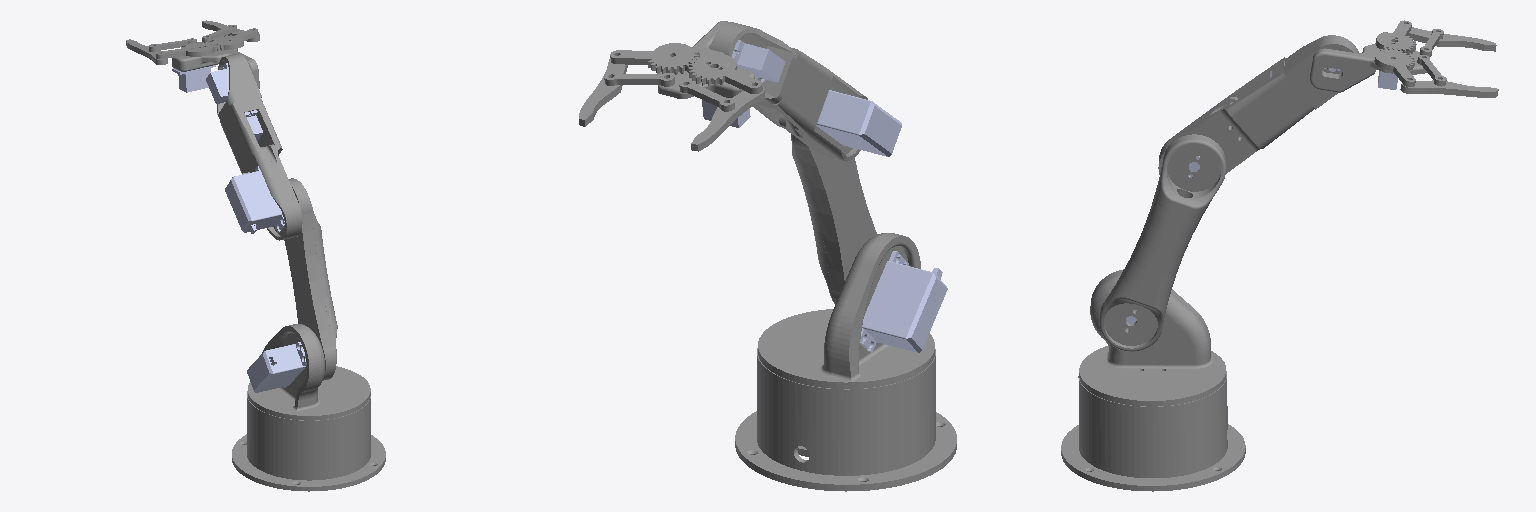
The robot description file, URDF, robot "[local-path]\Downloads\brazo":
<?xml version="1.0" ?>
<!-- Generated using onshape-to-robot -->
<!-- Onshape https://cad.onshape.com/documents/a71bbab818f79d4d3df7e3b9/w/574f50a3cf0572fa3286194a/e/28a7b337e19c9283531a6724 -->
<robot name="C:\Users\jose5\Downloads\brazo">
  <!-- Link body1 -->
  <link name="body1">
    <inertial>
      <origin xyz="0.108987 -0.0395409 -0.0419016" rpy="0 0 0"/>
      <mass value="0.118244"/>
      <inertia ixx="0.000168538" ixy="-2e-11" ixz="8e-12" iyy="0.000161015" iyz="4.0463e-06" izz="0.00025711"/>
    </inertial>
    <!-- Part body1 -->
    <visual>
      <origin xyz="0.108987 -0.0404876 -0.0640146" rpy="0.00679811 -0 0"/>
      <geometry>
        <mesh filename="package://assets\body1.stl"/>
      </geometry>
      <material name="body1_material">
        <color rgba="0.627451 0.627451 0.627451 1"/>
      </material>
    </visual>
    <collision>
      <origin xyz="0.108987 -0.0404876 -0.0640146" rpy="0.00679811 -0 0"/>
      <geometry>
        <mesh filename="package://assets\body1.stl"/>
      </geometry>
    </collision>
  </link>
  <!-- Link body1_2 -->
  <link name="body1_2">
    <inertial>
      <origin xyz="0.0154758 -0.00346856 -0.0244656" rpy="0 0 0"/>
      <mass value="0.14706"/>
      <inertia ixx="0.000102092" ixy="4.00363e-06" ixz="1.77019e-05" iyy="9.74089e-05" iyz="-1.3991e-05" izz="0.000104391"/>
    </inertial>
    <!-- Part body1_2 -->
    <visual>
      <origin xyz="0 0 0" rpy="-1.5708 -0 -0"/>
      <geometry>
        <mesh filename="package://assets\body1__2.stl"/>
      </geometry>
      <material name="body1_2_material">
        <color rgba="0.627451 0.627451 0.627451 1"/>
      </material>
    </visual>
    <collision>
      <origin xyz="0 0 0" rpy="-1.5708 -0 -0"/>
      <geometry>
        <mesh filename="package://assets\body1__2.stl"/>
      </geometry>
    </collision>
    <!-- Part servo_mg996r__none -->
    <visual>
      <origin xyz="0.0492 -0.00654366 -0.0326348" rpy="-0 -0.785398 1.5708"/>
      <geometry>
        <mesh filename="package://assets\servo_mg996r__none.stl"/>
      </geometry>
      <material name="servo_mg996r__none_material">
        <color rgba="0.792157 0.819608 0.933333 1"/>
      </material>
    </visual>
    <collision>
      <origin xyz="0.0492 -0.00654366 -0.0326348" rpy="-0 -0.785398 1.5708"/>
      <geometry>
        <mesh filename="package://assets\servo_mg996r__none.stl"/>
      </geometry>
    </collision>
  </link>
  <!-- Link body1_3 -->
  <link name="body1_3">
    <inertial>
      <origin xyz="-9.3609e-08 -0.06 -0.00777214" rpy="0 0 0"/>
      <mass value="0.080077"/>
      <inertia ixx="0.000129695" ixy="4.89e-10" ixz="-1.24e-10" iyy="1.15345e-05" iyz="-3.7e-11" izz="0.00013578"/>
    </inertial>
    <!-- Part body1_3 -->
    <visual>
      <origin xyz="0 -0.12 -0.021" rpy="0 0 0"/>
      <geometry>
        <mesh filename="package://assets\body1__3.stl"/>
      </geometry>
      <material name="body1_3_material">
        <color rgba="0.627451 0.627451 0.627451 1"/>
      </material>
    </visual>
    <collision>
      <origin xyz="0 -0.12 -0.021" rpy="0 0 0"/>
      <geometry>
        <mesh filename="package://assets\body1__3.stl"/>
      </geometry>
    </collision>
  </link>
  <!-- Link body1_4 -->
  <link name="body1_4">
    <inertial>
      <origin xyz="0.031548 -2.91008e-05 -0.0125932" rpy="0 0 0"/>
      <mass value="0.127271"/>
      <inertia ixx="2.87792e-05" ixy="2.00584e-07" ixz="-1.79937e-05" iyy="0.000143616" iyz="2.082e-08" izz="0.000134809"/>
    </inertial>
    <!-- Part servo_micro__boss_extrude5 -->
    <visual>
      <origin xyz="0.0617 0 -0.0065" rpy="3.14159 -0 1.5708"/>
      <geometry>
        <mesh filename="package://assets\servo_micro__boss_extrude5.stl"/>
      </geometry>
      <material name="servo_micro__boss_extrude5_material">
        <color rgba="0.792157 0.819608 0.933333 1"/>
      </material>
    </visual>
    <collision>
      <origin xyz="0.0617 0 -0.0065" rpy="3.14159 -0 1.5708"/>
      <geometry>
        <mesh filename="package://assets\servo_micro__boss_extrude5.stl"/>
      </geometry>
    </collision>
    <!-- Part body1_4 -->
    <visual>
      <origin xyz="0.03475 0 0" rpy="-3.14159 0 0"/>
      <geometry>
        <mesh filename="package://assets\body1__4.stl"/>
      </geometry>
      <material name="body1_4_material">
        <color rgba="0.627451 0.627451 0.627451 1"/>
      </material>
    </visual>
    <collision>
      <origin xyz="0.03475 0 0" rpy="-3.14159 0 0"/>
      <geometry>
        <mesh filename="package://assets\body1__4.stl"/>
      </geometry>
    </collision>
    <!-- Part servo_mg996r__none_2 -->
    <visual>
      <origin xyz="0.01075 0 -0.0418" rpy="1.5708 0 0"/>
      <geometry>
        <mesh filename="package://assets\servo_mg996r__none.stl"/>
      </geometry>
      <material name="servo_mg996r__none_2_material">
        <color rgba="0.792157 0.819608 0.933333 1"/>
      </material>
    </visual>
    <collision>
      <origin xyz="0.01075 0 -0.0418" rpy="1.5708 0 0"/>
      <geometry>
        <mesh filename="package://assets\servo_mg996r__none.stl"/>
      </geometry>
    </collision>
  </link>
  <!-- Link body1_5 -->
  <link name="body1_5">
    <inertial>
      <origin xyz="0.00502784 -0.00239229 -0.020039" rpy="0 0 0"/>
      <mass value="0.0339878"/>
      <inertia ixx="6.89636e-06" ixy="-2.262e-09" ixz="-1.6555e-08" iyy="7.32229e-06" iyz="-4.5483e-07" izz="4.55512e-06"/>
    </inertial>
    <!-- Part body1_5 -->
    <visual>
      <origin xyz="0.005 0 -0" rpy="-1.5708 -0 -0"/>
      <geometry>
        <mesh filename="package://assets\body1__5.stl"/>
      </geometry>
      <material name="body1_5_material">
        <color rgba="0.627451 0.627451 0.627451 1"/>
      </material>
    </visual>
    <collision>
      <origin xyz="0.005 0 -0" rpy="-1.5708 -0 -0"/>
      <geometry>
        <mesh filename="package://assets\body1__5.stl"/>
      </geometry>
    </collision>
    <!-- Part servo_micro__boss_extrude5_2 -->
    <visual>
      <origin xyz="0.005 0.01455 -0.0230515" rpy="3.14159 -1.5708 0"/>
      <geometry>
        <mesh filename="package://assets\servo_micro__boss_extrude5.stl"/>
      </geometry>
      <material name="servo_micro__boss_extrude5_2_material">
        <color rgba="0.792157 0.819608 0.933333 1"/>
      </material>
    </visual>
    <collision>
      <origin xyz="0.005 0.01455 -0.0230515" rpy="3.14159 -1.5708 0"/>
      <geometry>
        <mesh filename="package://assets\servo_micro__boss_extrude5.stl"/>
      </geometry>
    </collision>
  </link>
  <!-- Link body1_6 -->
  <link name="body1_6">
    <inertial>
      <origin xyz="0.00304697 0.0302359 0.0115187" rpy="0 0 0"/>
      <mass value="0.0334504"/>
      <inertia ixx="1.61851e-05" ixy="-7.74373e-07" ixz="8.12843e-07" iyy="8.74357e-06" iyz="-4.18817e-06" izz="1.19198e-05"/>
    </inertial>
    <!-- Part body1_6 -->
    <visual>
      <origin xyz="0.009 0.0405 0.016" rpy="-1.5708 -1.5708 0"/>
      <geometry>
        <mesh filename="package://assets\body1__6.stl"/>
      </geometry>
      <material name="body1_6_material">
        <color rgba="0.627451 0.627451 0.627451 1"/>
      </material>
    </visual>
    <collision>
      <origin xyz="0.009 0.0405 0.016" rpy="-1.5708 -1.5708 0"/>
      <geometry>
        <mesh filename="package://assets\body1__6.stl"/>
      </geometry>
    </collision>
    <!-- Part servo_micro__boss_extrude5_3 -->
    <visual>
      <origin xyz="-0.01455 0.0381786 0.0229485" rpy="-1.5708 -1.5708 0"/>
      <geometry>
        <mesh filename="package://assets\servo_micro__boss_extrude5.stl"/>
      </geometry>
      <material name="servo_micro__boss_extrude5_3_material">
        <color rgba="0.792157 0.819608 0.933333 1"/>
      </material>
    </visual>
    <collision>
      <origin xyz="-0.01455 0.0381786 0.0229485" rpy="-1.5708 -1.5708 0"/>
      <geometry>
        <mesh filename="package://assets\servo_micro__boss_extrude5.stl"/>
      </geometry>
    </collision>
  </link>
  <!-- Link body1_7 -->
  <link name="body1_7">
    <inertial>
      <origin xyz="0.0191519 0.0142009 -0.000170711" rpy="0 0 0"/>
      <mass value="0.007419"/>
      <inertia ixx="2.16654e-06" ixy="-1.29231e-06" ixz="-2.03103e-07" iyy="2.02591e-06" iyz="-1.53706e-07" izz="4.1047e-06"/>
    </inertial>
    <!-- Part body1_7 -->
    <visual>
      <origin xyz="0.03075 0 0.0045" rpy="-1.5708 -0 1.5708"/>
      <geometry>
        <mesh filename="package://assets\body1__7.stl"/>
      </geometry>
      <material name="body1_7_material">
        <color rgba="0.627451 0.627451 0.627451 1"/>
      </material>
    </visual>
    <collision>
      <origin xyz="0.03075 0 0.0045" rpy="-1.5708 -0 1.5708"/>
      <geometry>
        <mesh filename="package://assets\body1__7.stl"/>
      </geometry>
    </collision>
    <!-- Part body1_8 -->
    <visual>
      <origin xyz="-0 0 -0.002" rpy="-0 0 0"/>
      <geometry>
        <mesh filename="package://assets\body1__8.stl"/>
      </geometry>
      <material name="body1_8_material">
        <color rgba="0.627451 0.627451 0.627451 1"/>
      </material>
    </visual>
    <collision>
      <origin xyz="-0 0 -0.002" rpy="-0 0 0"/>
      <geometry>
        <mesh filename="package://assets\body1__8.stl"/>
      </geometry>
    </collision>
    <!-- Part body1_9 -->
    <visual>
      <origin xyz="0.03075 0.022 0" rpy="-1.5708 0 3.14159"/>
      <geometry>
        <mesh filename="package://assets\body1__9.stl"/>
      </geometry>
      <material name="body1_9_material">
        <color rgba="0.627451 0.627451 0.627451 1"/>
      </material>
    </visual>
    <collision>
      <origin xyz="0.03075 0.022 0" rpy="-1.5708 0 3.14159"/>
      <geometry>
        <mesh filename="package://assets\body1__9.stl"/>
      </geometry>
    </collision>
  </link>
  <!-- Joint from body1_6 to body1_7 -->
  <joint name="pinza" type="revolute">
    <origin xyz="0.014 0.038 0.0179" rpy="-1.5708 -1.34986 1.5708"/>
    <parent link="body1_6"/>
    <child link="body1_7"/>
    <axis xyz="0 0 1"/>
    <limit effort="10" velocity="10" lower="-3.141592653589793" upper="3.141592653589793"/>
  </joint>
  <!-- Link body1_8 -->
  <link name="body1_8">
    <inertial>
      <origin xyz="0.0189086 -0.0140205 -0.000193957" rpy="0 0 0"/>
      <mass value="0.00751447"/>
      <inertia ixx="2.18611e-06" ixy="1.31795e-06" ixz="-2.06404e-07" iyy="2.06211e-06" iyz="1.56151e-07" izz="4.15959e-06"/>
    </inertial>
    <!-- Part body1_10 -->
    <visual>
      <origin xyz="0.03075 -0.022 0" rpy="-1.5708 -0 -3.14159"/>
      <geometry>
        <mesh filename="package://assets\body1__9.stl"/>
      </geometry>
      <material name="body1_10_material">
        <color rgba="0.627451 0.627451 0.627451 1"/>
      </material>
    </visual>
    <collision>
      <origin xyz="0.03075 -0.022 0" rpy="-1.5708 -0 -3.14159"/>
      <geometry>
        <mesh filename="package://assets\body1__9.stl"/>
      </geometry>
    </collision>
    <!-- Part body1_11 -->
    <visual>
      <origin xyz="0 0 -0.002" rpy="-3.14159 -0 0"/>
      <geometry>
        <mesh filename="package://assets\body1__10.stl"/>
      </geometry>
      <material name="body1_11_material">
        <color rgba="0.627451 0.627451 0.627451 1"/>
      </material>
    </visual>
    <collision>
      <origin xyz="0 0 -0.002" rpy="-3.14159 -0 0"/>
      <geometry>
        <mesh filename="package://assets\body1__10.stl"/>
      </geometry>
    </collision>
    <!-- Part body1_12 -->
    <visual>
      <origin xyz="0.03075 -0 0" rpy="1.5708 0 -1.5708"/>
      <geometry>
        <mesh filename="package://assets\body1__7.stl"/>
      </geometry>
      <material name="body1_12_material">
        <color rgba="0.627451 0.627451 0.627451 1"/>
      </material>
    </visual>
    <collision>
      <origin xyz="0.03075 -0 0" rpy="1.5708 0 -1.5708"/>
      <geometry>
        <mesh filename="package://assets\body1__7.stl"/>
      </geometry>
    </collision>
  </link>
  <!-- Joint from body1_6 to body1_8 -->
  <joint name="pinza_2" type="revolute">
    <origin xyz="0.014 0.038 -0.009" rpy="-1.5708 1.17362 1.5708"/>
    <parent link="body1_6"/>
    <child link="body1_8"/>
    <axis xyz="0 0 1"/>
    <limit effort="10" velocity="10" lower="-3.141592653589793" upper="3.141592653589793"/>
  </joint>
  <!-- Joint from body1_5 to body1_6 -->
  <joint name="muneca_roll" type="revolute">
    <origin xyz="0.005 -0.014 -0.028" rpy="-1.5708 0.842781 -0"/>
    <parent link="body1_5"/>
    <child link="body1_6"/>
    <axis xyz="0 0 1"/>
    <limit effort="10" velocity="10" lower="-3.141592653589793" upper="3.141592653589793"/>
  </joint>
  <!-- Joint from body1_4 to body1_5 -->
  <joint name="muneca_pitch" type="revolute">
    <origin xyz="0.08975 -0.0053 -0.0055" rpy="-1.5708 -0 1.5708"/>
    <parent link="body1_4"/>
    <child link="body1_5"/>
    <axis xyz="0 0 1"/>
    <limit effort="10" velocity="10" lower="-3.141592653589793" upper="3.141592653589793"/>
  </joint>
  <!-- Joint from body1_3 to body1_4 -->
  <joint name="codo" type="revolute">
    <origin xyz="0 -0.12 0" rpy="-3.14159 -0 -1.04123"/>
    <parent link="body1_3"/>
    <child link="body1_4"/>
    <axis xyz="0 0 1"/>
    <limit effort="10" velocity="10" lower="-3.141592653589793" upper="3.141592653589793"/>
  </joint>
  <!-- Joint from body1_2 to body1_3 -->
  <joint name="hombro" type="revolute">
    <origin xyz="0.004 -0.01391 -0.04028" rpy="1.5708 -0.360562 1.5708"/>
    <parent link="body1_2"/>
    <child link="body1_3"/>
    <axis xyz="0 0 1"/>
    <limit effort="10" velocity="10" lower="-3.141592653589793" upper="3.141592653589793"/>
  </joint>
  <!-- Joint from body1 to body1_2 -->
  <joint name="base" type="revolute">
    <origin xyz="0.108987 -0.0408683 -0.00801592" rpy="3.1348 -0.000202717 3.11177"/>
    <parent link="body1"/>
    <child link="body1_2"/>
    <axis xyz="0 0 1"/>
    <limit effort="10" velocity="10" lower="-3.141592653589793" upper="3.141592653589793"/>
  </joint>
</robot>

--- Facts derived from the render (not from the file) ---
The picture shows the robot from 3 angles, left to right: view 1: azimuth 30°, elevation 25°; view 2: azimuth 150°, elevation 25°; view 3: azimuth 270°, elevation 25°; orthographic projection.
Robot: [local-path]\Downloads\brazo — 8 links, 7 joints (7 revolute); root link body1; default pose: all joints at 0.
Visible links, largest first — view 1: body1, body1_2, body1_4, body1_3, body1_5, body1_6, body1_7, body1_8; view 2: body1, body1_2, body1_4, body1_3, body1_7, body1_5, body1_8, body1_6; view 3: body1, body1_3, body1_2, body1_4, body1_6, body1_8, body1_7, body1_5.
Link boxes in pixels (bbox=[...]): body1: bbox=[232, 391, 385, 491]; body1_2: bbox=[247, 324, 370, 420]; body1_4: bbox=[220, 97, 302, 240]; body1_3: bbox=[284, 178, 337, 380]; body1_5: bbox=[206, 53, 261, 119]; body1_6: bbox=[172, 42, 259, 92]; body1_7: bbox=[126, 38, 216, 64]; body1_8: bbox=[202, 20, 259, 50]; body1: bbox=[735, 348, 956, 491]; body1_2: bbox=[758, 233, 947, 388]; body1_4: bbox=[753, 48, 901, 161]; body1_3: bbox=[791, 134, 877, 304]; body1_7: bbox=[679, 54, 764, 151]; body1_5: bbox=[710, 22, 796, 103]; body1_8: bbox=[579, 43, 699, 126]; body1_6: bbox=[658, 21, 754, 127]; body1: bbox=[1061, 371, 1245, 491]; body1_3: bbox=[1099, 134, 1225, 351]; body1_2: bbox=[1079, 269, 1225, 406]; body1_4: bbox=[1158, 57, 1314, 177]; body1_6: bbox=[1310, 32, 1426, 92]; body1_8: bbox=[1374, 48, 1498, 97]; body1_7: bbox=[1376, 20, 1496, 56]; body1_5: bbox=[1284, 35, 1358, 109].
Bounding box of the posed robot: 0.1215 × 0.2883 × 0.3011 m (x, y, z).
17 mesh visuals loaded from 12 distinct referenced files (12 binary STL).
